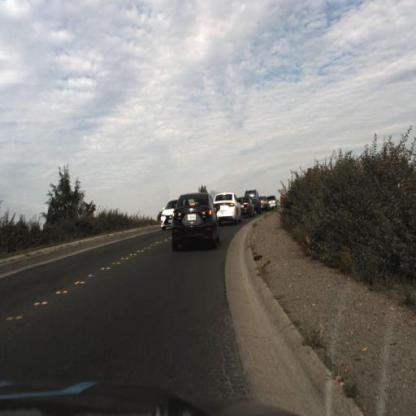car: (168, 186, 220, 261), (212, 189, 243, 229), (155, 187, 178, 237), (213, 190, 244, 224), (237, 188, 259, 221), (245, 190, 264, 218), (246, 187, 262, 213), (254, 189, 269, 213), (238, 193, 250, 218)
